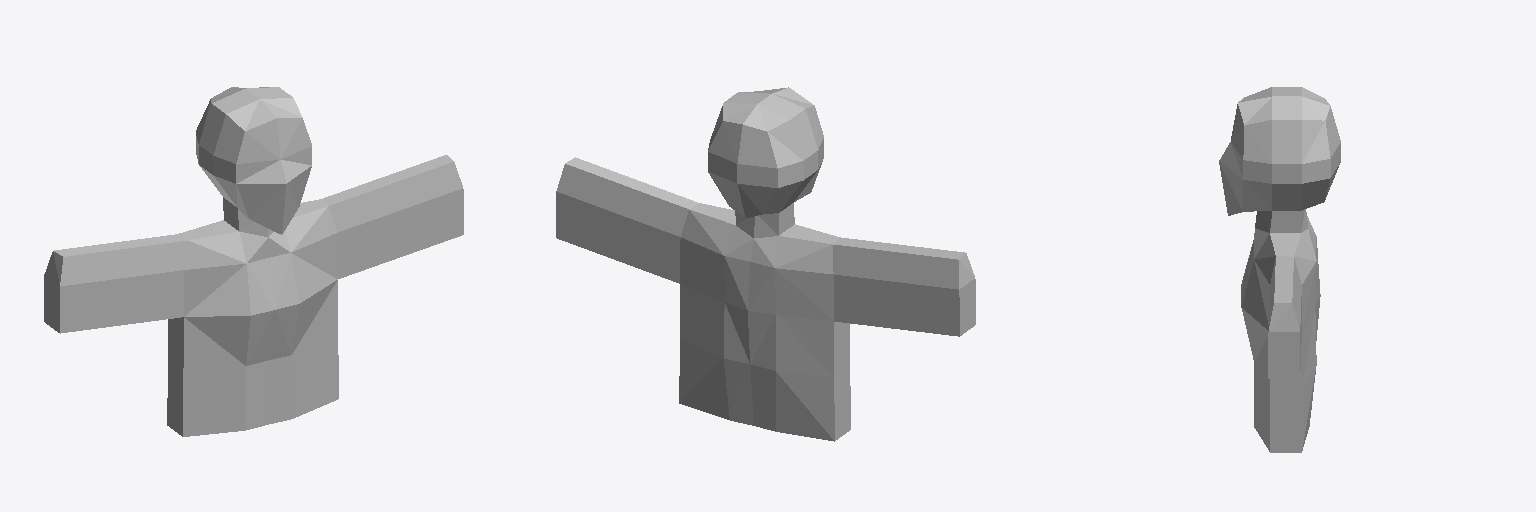
The model's file is characterAnim1.obj.
The picture shows the model from 3 angles: view 1: azimuth 30°, elevation 25°; view 2: azimuth 150°, elevation 25°; view 3: azimuth 270°, elevation 25°; orthographic projection.
Visible parts, largest first — view 1: Cube; view 2: Cube; view 3: Cube.
Part boxes in pixels (x1,y1,x2,y2): Cube: (44, 87, 463, 436); Cube: (556, 87, 975, 441); Cube: (1219, 87, 1340, 452).
Bounding box in the file's own units: 8.7 × 6.56 × 2.28.